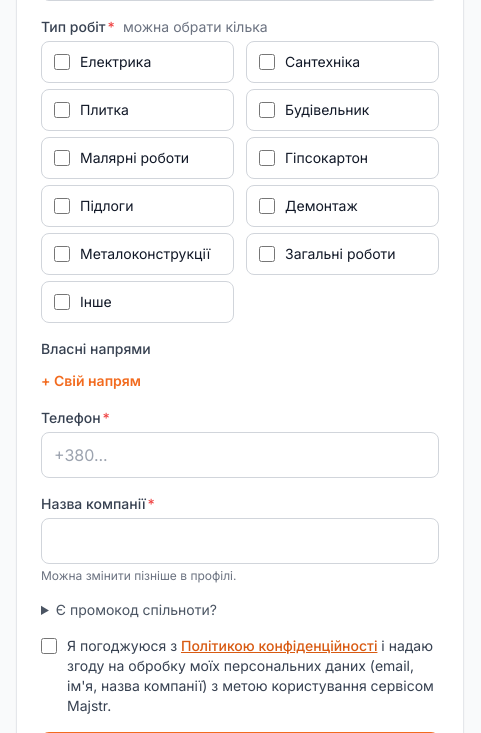
Test: RegisterPage — custom trade › removes a custom trade from the local list before submit
(page scrolled)
Click the button "+ Свій напрям".
click(91, 381)  # box [41,371,141,391]
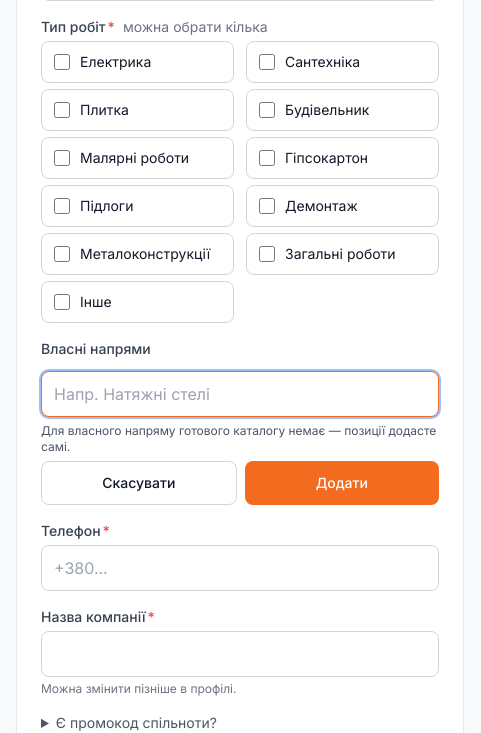
Type "Стеля" into the field with placeholder "Напр. Натяжні стелі".
click(240, 394); type("Стеля")  # box [41,371,439,417]
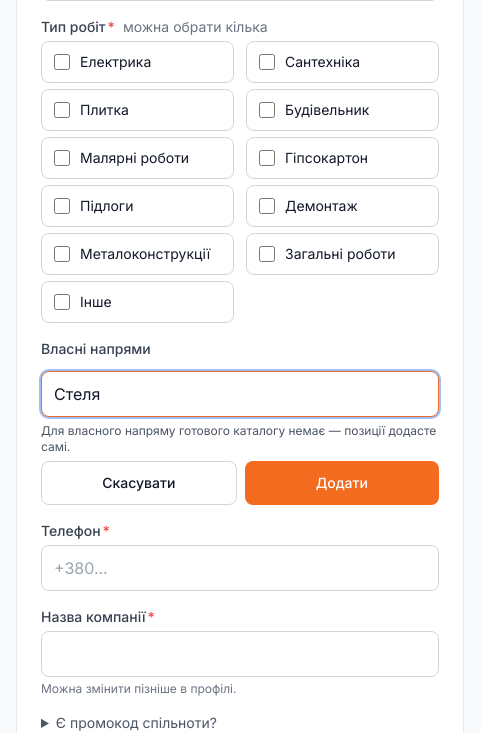
Click the button "Додати".
click(342, 483)  # box [245,461,439,505]
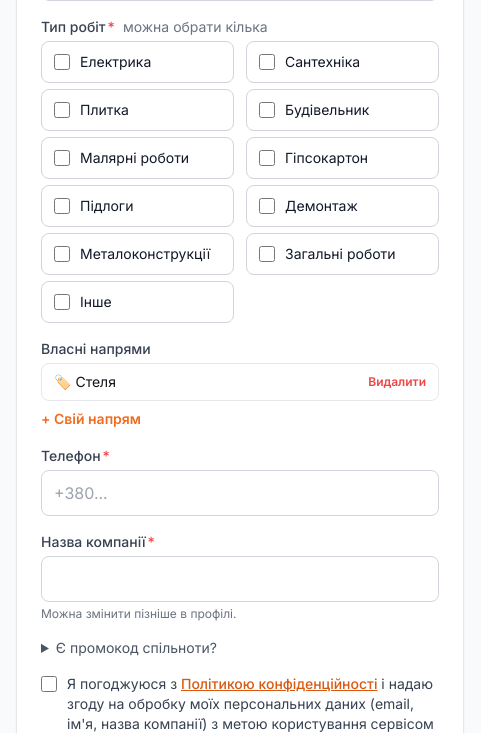
Check: the text "🏷️ Стеля" is shown, box [54,372,116,392]
Click the button "Видалити".
click(397, 382)  # box [368,374,426,390]
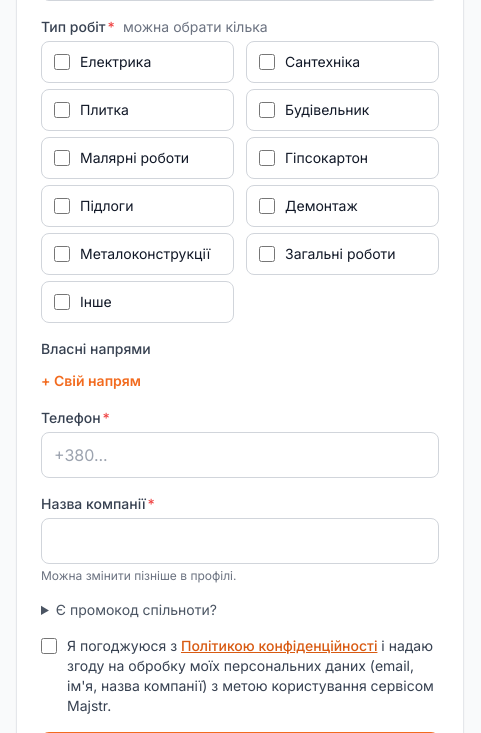
Check: the text "Стеля" is gone
